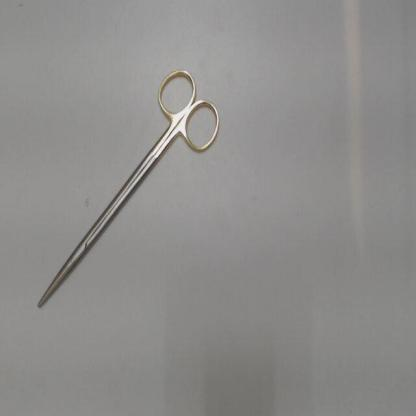7 Metzenbaum Scissors: (33, 64, 224, 315)
